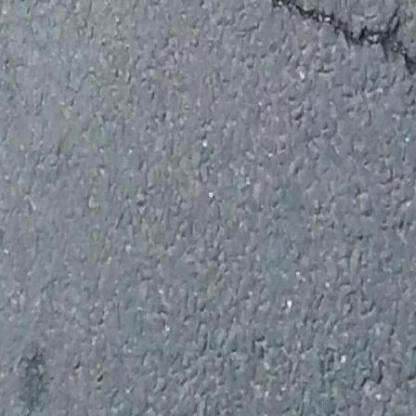Cracks: (267, 0, 416, 76)
